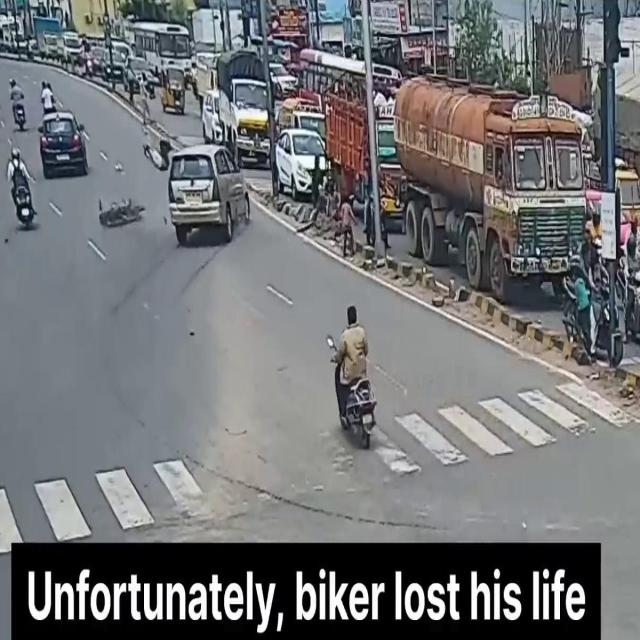accident: (90, 136, 258, 262)
non_accident: (389, 70, 640, 366), (273, 43, 387, 245), (0, 0, 185, 104), (184, 36, 270, 172)
